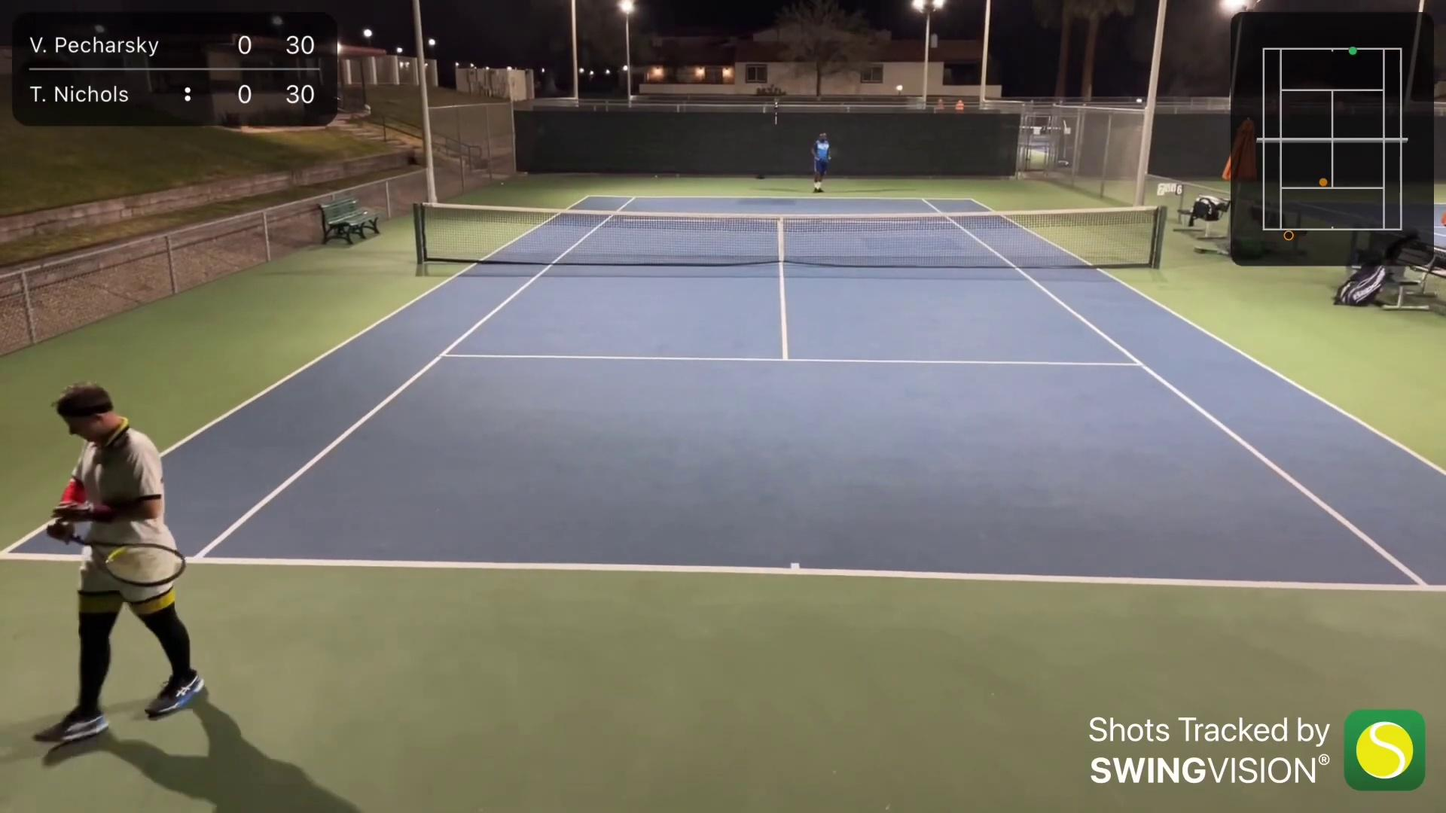ball: (895, 82, 902, 90), (499, 181, 508, 187), (653, 175, 658, 179)
